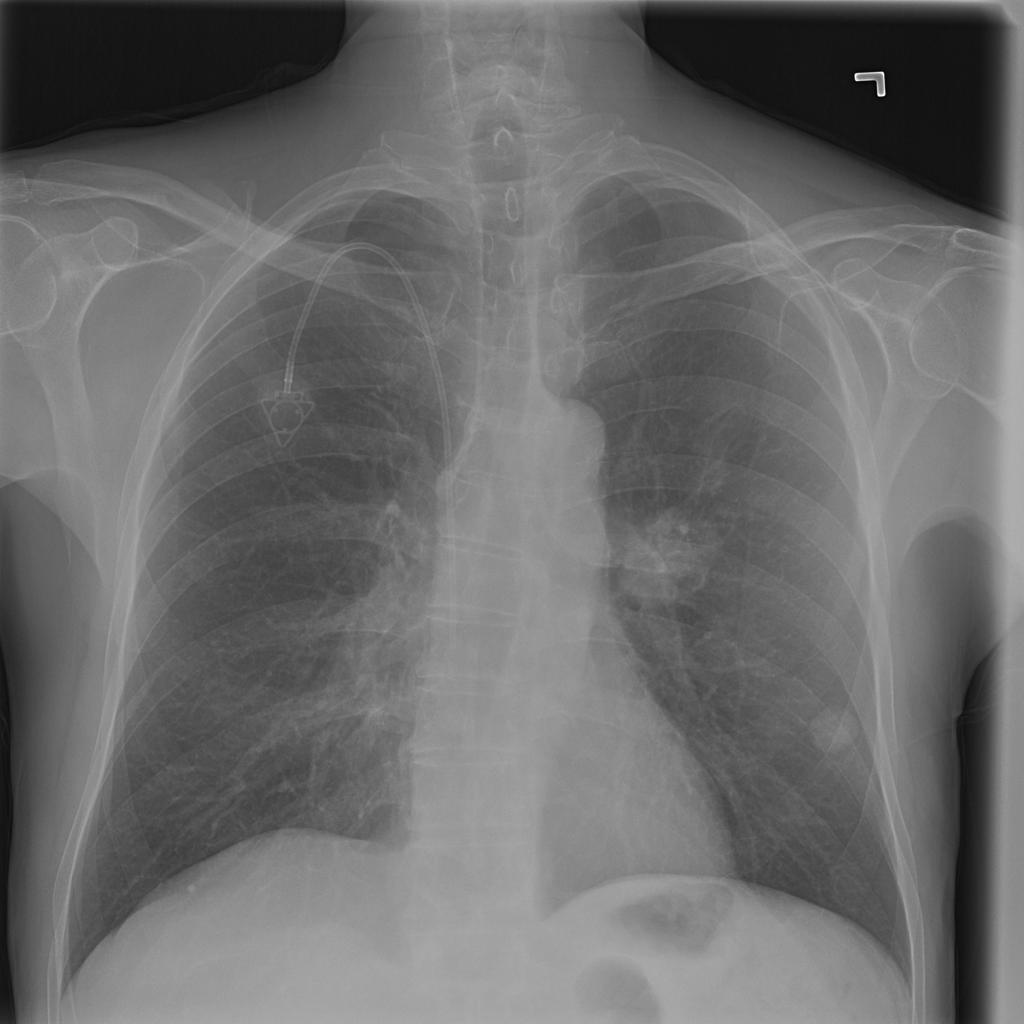nodule: (602, 492, 729, 616), (797, 691, 870, 764)
